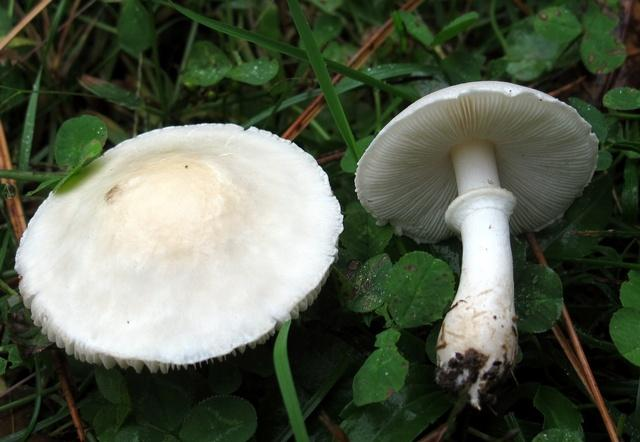poisonous_mushroom: (13, 120, 344, 374), (353, 78, 600, 410)
